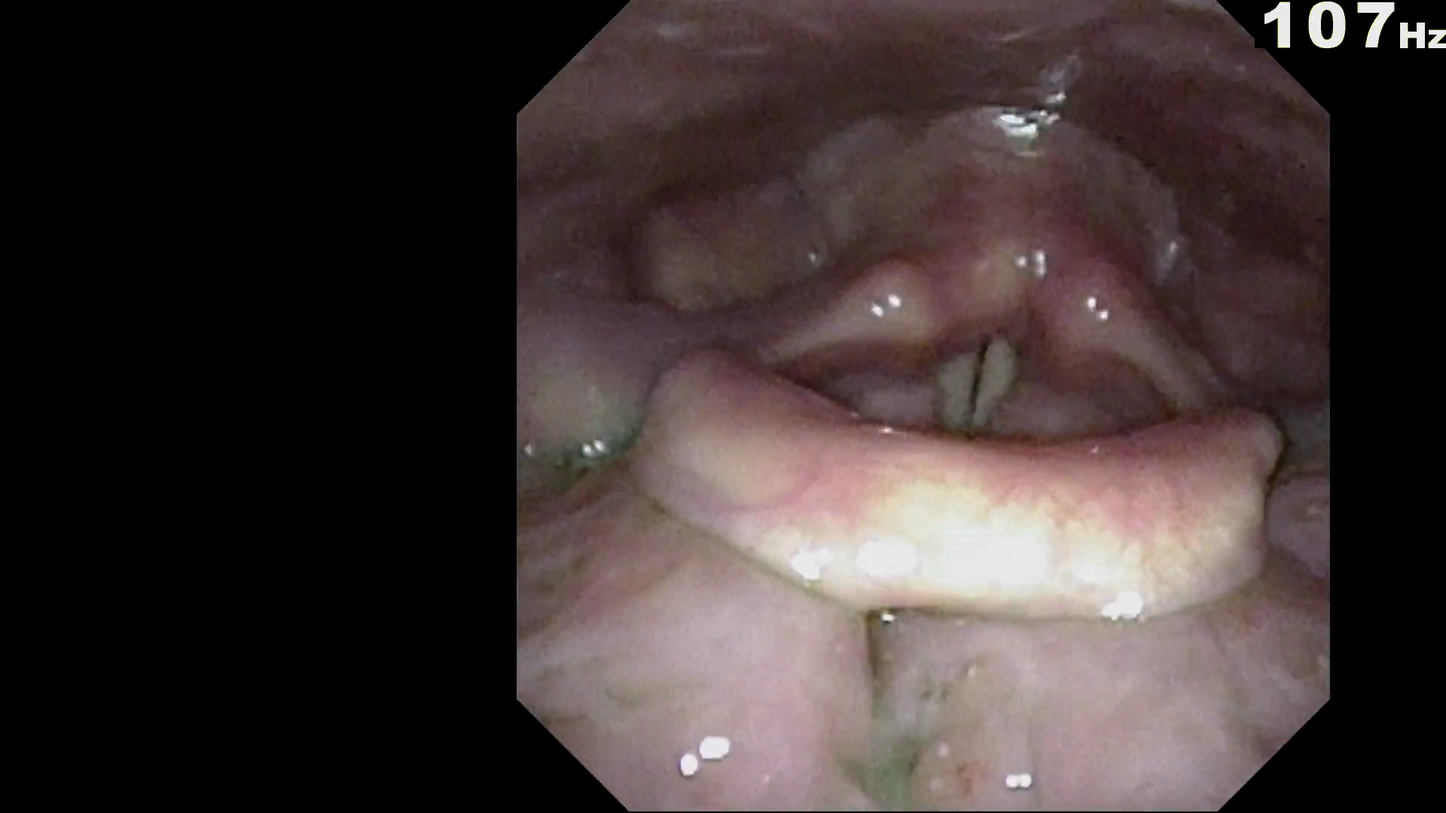epiglottis: (631, 361, 1284, 611)
trachea: (927, 315, 1027, 440)
